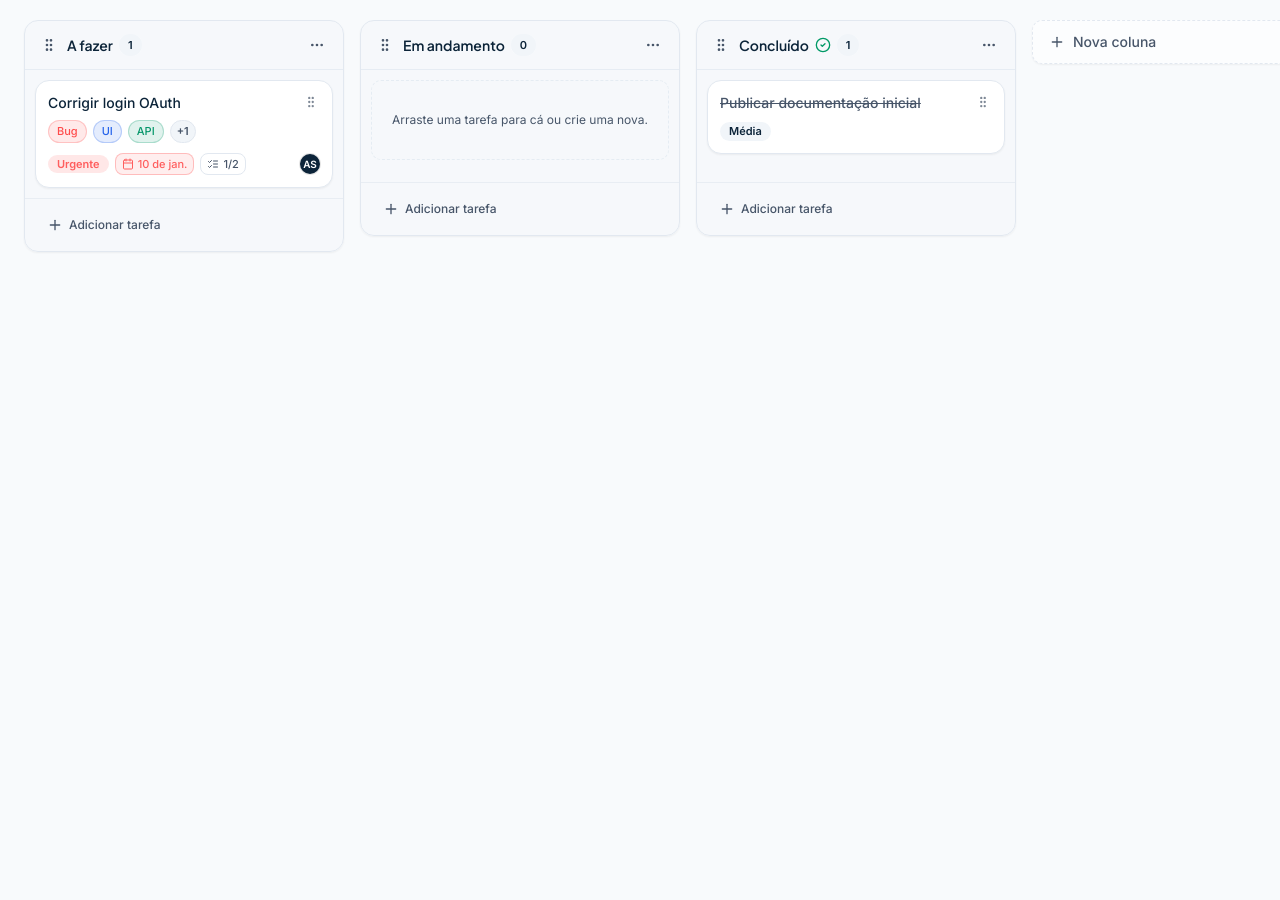
Test: BoardKanbanView › deletingEmptyColumnOpensConfirmDialogAndDisablesDeleteWhenSingleColumnRemains
The width and height of the screenshot is (1280, 900).
Later steps or results of the test are not shown.
Click the button named "opções da coluna em andamento" at point(653, 45), box x1=639 y1=31 x2=667 y2=59
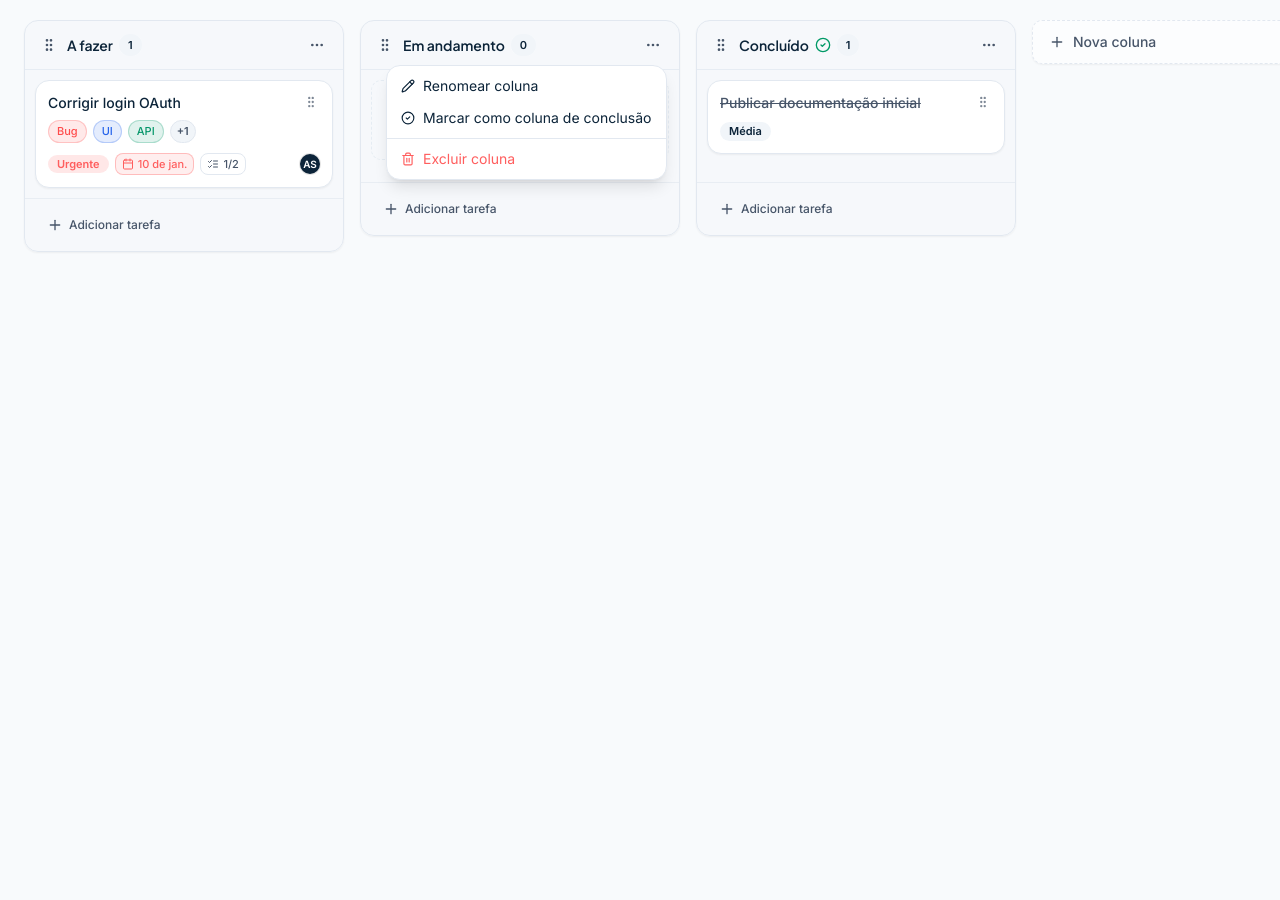
Click the menu item "Excluir coluna" at point(458, 158), box x1=401 y1=150 x2=515 y2=167
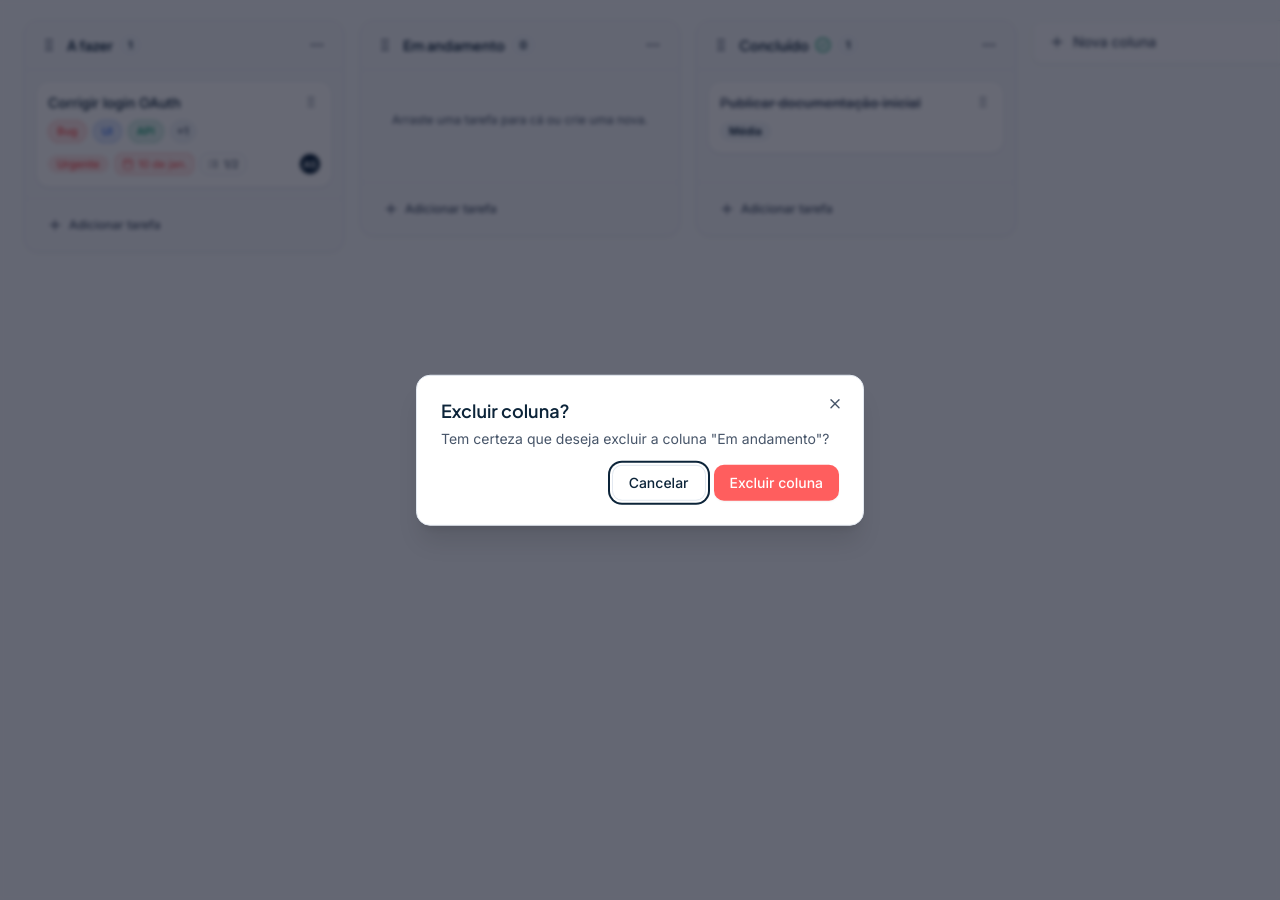
Now the heading "Excluir coluna?" is shown, box x1=441 y1=399 x2=570 y2=422
